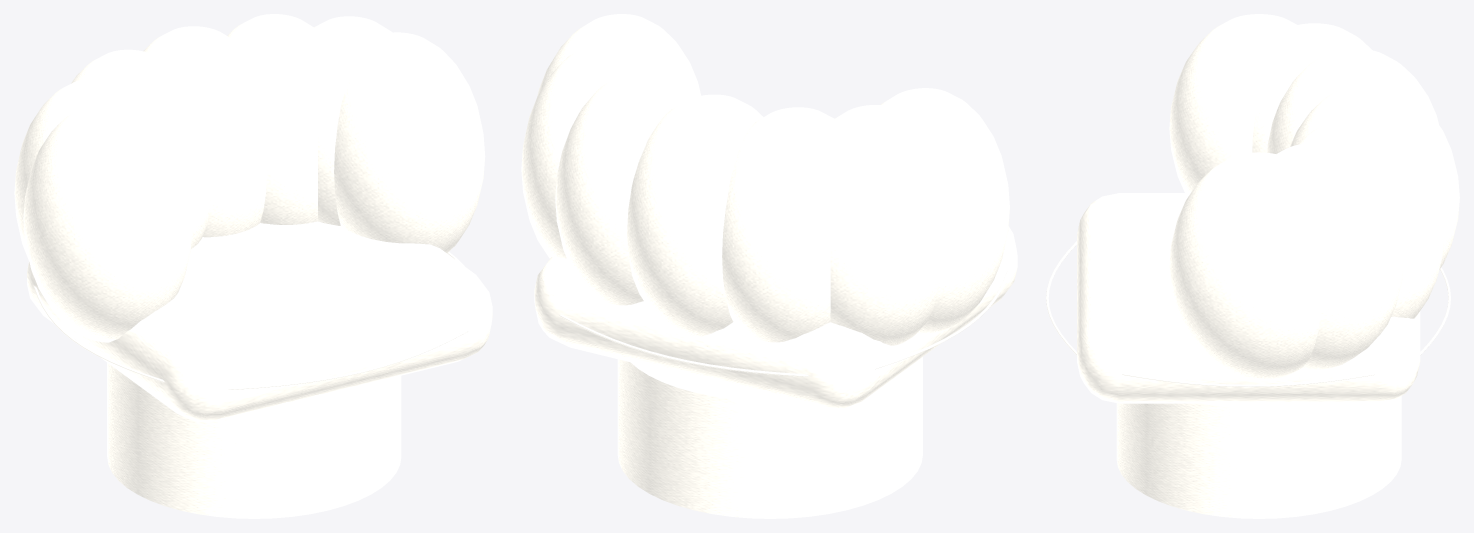
Rendered from ref05_13.glb.
3 renders of one model, left to right at view 1: azimuth 30°, elevation 25°; view 2: azimuth 150°, elevation 25°; view 3: azimuth 270°, elevation 25°, orthographic. The views are drawn at different scales.
Visible parts, largest first — view 1: ref05_13; view 2: ref05_13; view 3: ref05_13.
Part boxes in pixels (x1,y1,x2,y2): ref05_13: [14, 14, 492, 518]; ref05_13: [521, 14, 1017, 518]; ref05_13: [1046, 14, 1459, 518].
Size of the model in its own units: 0.92 by 0.775 by 0.7833.
Materials: 1 (1 with a texture image).
